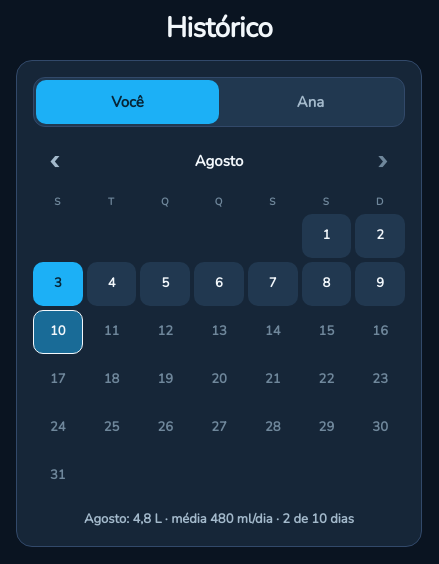
Test: Historico › switches to the partner
Click the button "Ana". click: (310, 102)
box: [219,80,402,124]
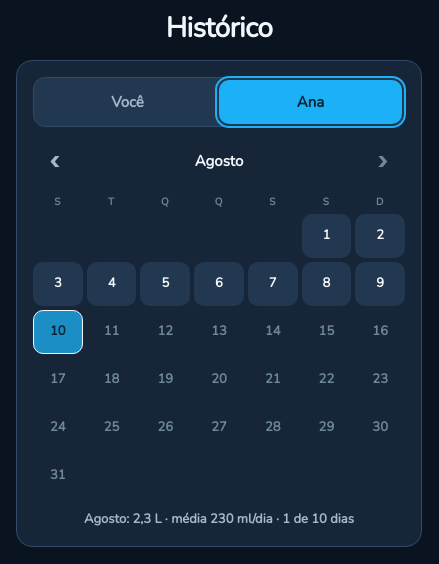
Result: the text "Agosto: 2,3 L · média 230 ml/dia · 1 de 10 dias" is shown at [84,510,354,528]
